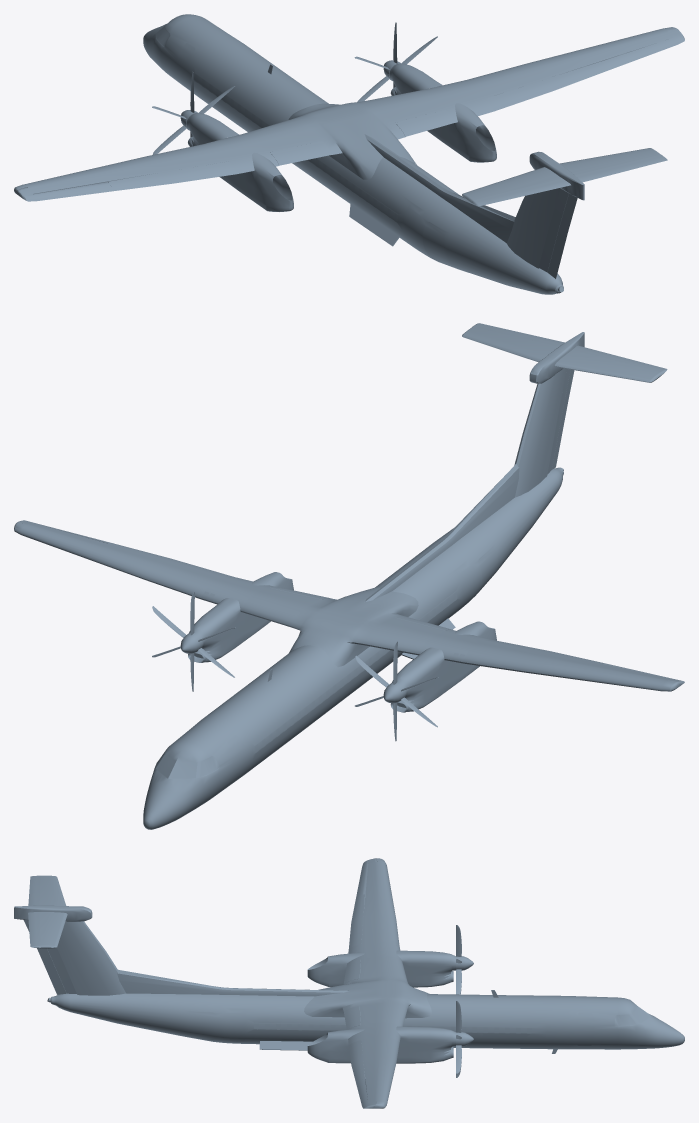
File: DHC8-400.glb
3 views of the same model, one above another, from view 1: azimuth 30°, elevation 25°; view 2: azimuth 150°, elevation 25°; view 3: azimuth 270°, elevation 25° (orthographic). The views are drawn at different scales.
Bounding box in the file's own units: 28.45 × 7.89 × 32.59.
